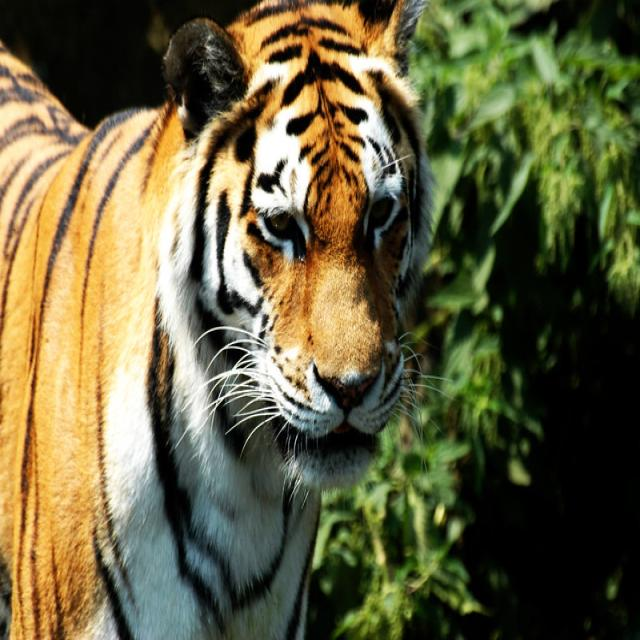Tiger: (0, 0, 433, 639)
